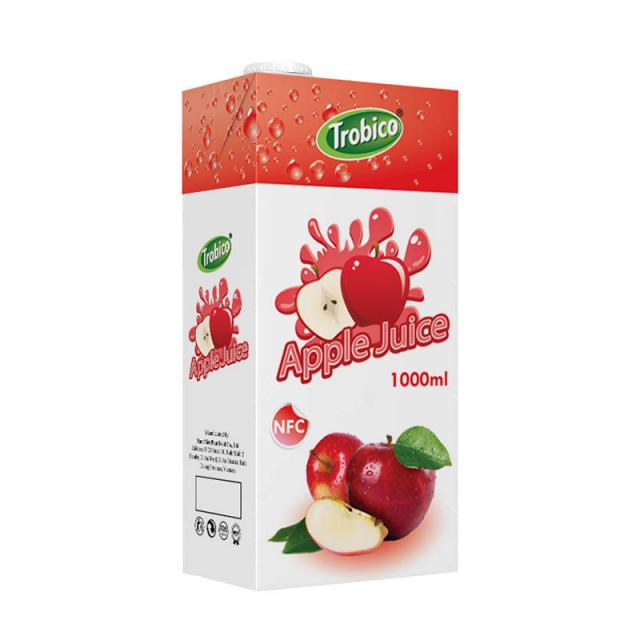non_white_jug: (173, 63, 490, 585)
